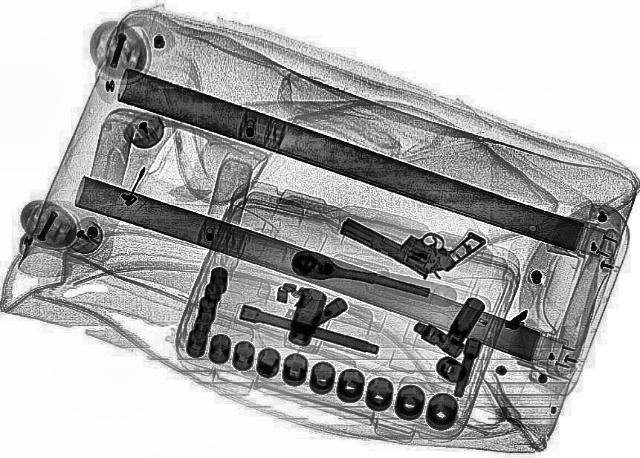Gun: (327, 190, 487, 285)
